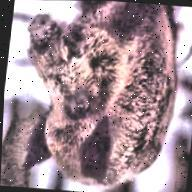boar: (9, 0, 188, 192)
